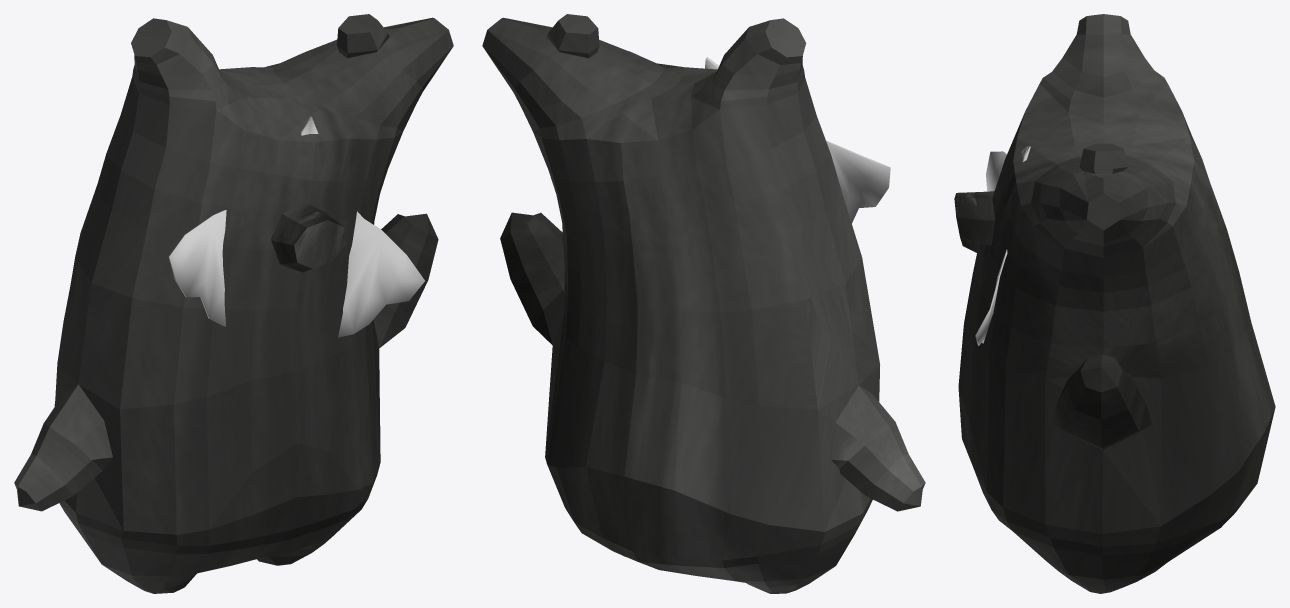
The model's file is frame_0056.obj.
3 views of the same model, side by side, from view 1: azimuth 30°, elevation 25°; view 2: azimuth 150°, elevation 25°; view 3: azimuth 270°, elevation 25° (orthographic). The views are drawn at different scales.
Visible parts, largest first — view 1: korok, leaf, nose; view 2: korok, leaf; view 3: korok, nose, leaf.
Boxes of the visible parts, x1,y1,x2,y2 form: korok: [14, 14, 453, 593]; leaf: [168, 116, 424, 337]; nose: [271, 204, 345, 272]; korok: [482, 14, 925, 593]; leaf: [705, 57, 890, 223]; korok: [958, 14, 1275, 593]; nose: [954, 191, 995, 256]; leaf: [975, 146, 1030, 345].
Bounding box in the file's own units: 1.7 × 2.14 × 1.18.
